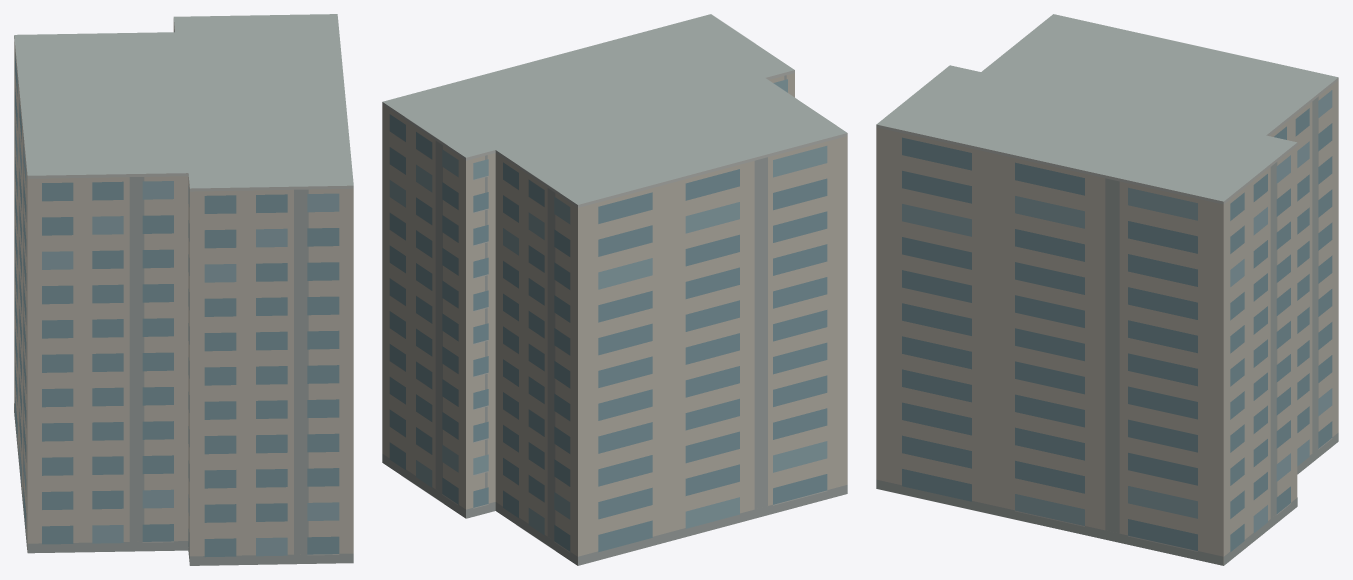
File: residential-1cf9725a-bc61-4c36-b2eb-819d803cf8dd.glb
3 renders of one model, left to right at view 1: azimuth 30°, elevation 25°; view 2: azimuth 150°, elevation 25°; view 3: azimuth 270°, elevation 25°, orthographic. The views are drawn at different scales.
Visible parts, largest first — view 1: residential-1cf9725a-bc61-4c36-b2eb-819d803cf8dd.tmp; view 2: residential-1cf9725a-bc61-4c36-b2eb-819d803cf8dd.tmp; view 3: residential-1cf9725a-bc61-4c36-b2eb-819d803cf8dd.tmp.
Part boxes in pixels (x1,y1,x2,y2): residential-1cf9725a-bc61-4c36-b2eb-819d803cf8dd.tmp: [14, 14, 353, 565]; residential-1cf9725a-bc61-4c36-b2eb-819d803cf8dd.tmp: [382, 14, 847, 565]; residential-1cf9725a-bc61-4c36-b2eb-819d803cf8dd.tmp: [876, 14, 1338, 565].
Size of the model in its own units: 33.14 by 30 by 34.51.
